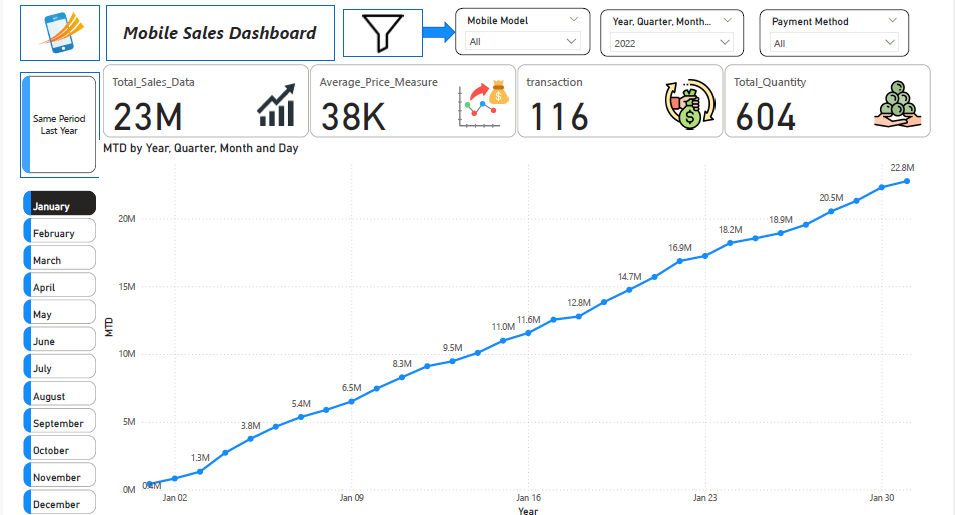

Layout of this report page (visuals, bound fields, positions):
{"tool":"powerbi","page":{"name":"MTD report ","canvas":[1280,720],"ordinal":1},"visuals":[{"type":"shape","box":[0,0,111.2,77.6],"z":0},{"type":"image","box":[0,0,111.2,77.6],"z":1000},{"type":"shape","box":[0,93.7,111.2,147.8],"z":2000},{"type":"cardVisual","fields":{"Data":["Mobiles_Sales_Data.Total_Sales_Data","Mobiles_Sales_Data.Average_Price_Measure","Mobiles_Sales_Data.Total_Transactions_Measure","Mobiles_Sales_Data.Total_Quantity"]},"box":[111.2,77.6,1169.3,112.7],"z":3000},{"type":"slicer","fields":{"Values":["Mobiles_Sales_Data.Mobile Model"]},"box":[608.8,4.4,188.8,65.9],"z":4000},{"type":"slicer","fields":{"Values":["Custom_Calender.Date.Variation.Date Hierarchy.Year","Custom_Calender.Date.Variation.Date Hierarchy.Quarter","Custom_Calender.Date.Variation.Date Hierarchy.Month","Custom_Calender.Date.Variation.Date Hierarchy.Day"]},"box":[812.2,5.9,200.5,65.9],"z":5000},{"type":"slicer","fields":{"Values":["Mobiles_Sales_Data.Payment Method"]},"box":[1034.6,5.9,209.3,65.9],"z":6000},{"type":"shape","box":[452.2,5.9,111.2,65.9],"z":7000},{"type":"image","box":[474.1,4.4,67.3,70.2],"z":8000},{"type":"shape","box":[563.4,23.4,45.4,29.3],"z":9000},{"type":"shape","box":[121.5,0,319,77.6],"z":10000},{"type":"textbox","box":[133.2,16.1,295.6,43.9],"z":11000},{"type":"lineChart","fields":{"Y":["Mobiles_Sales_Data.MTD"],"Category":["Custom_Calender.Date.Variation.Date Hierarchy.Year","Custom_Calender.Date.Variation.Date Hierarchy.Quarter","Custom_Calender.Date.Variation.Date Hierarchy.Month","Custom_Calender.Date.Variation.Date Hierarchy.Day"]},"box":[110.9,189.8,1152.3,530.8],"z":12000},{"type":"advancedSlicerVisual","fields":{"Values":["Custom_Calender.Date.Variation.Date Hierarchy.Month"]},"box":[0,254.6,111.2,465.4],"z":13000},{"type":"pageNavigator","box":[3.4,99.1,102.5,136.1],"z":14000}]}

Visuals, with their boxes on the page's 1280x720 design canvas (x1, y1, x2, y2). These are canvas units, not pixel positions in the 955x515 screenshot, which may show the page scaled, cropped or inside an application window:
shape: left=0, top=0, right=111, bottom=78
image: left=0, top=0, right=111, bottom=78
shape: left=0, top=94, right=111, bottom=242
cardVisual - Mobiles_Sales_Data.Total_Sales_Data x Mobiles_Sales_Data.Average_Price_Measure: left=111, top=78, right=1280, bottom=190
slicer - Mobiles_Sales_Data.Mobile Model: left=609, top=4, right=798, bottom=70
slicer - Custom_Calender.Date.Variation.Date Hierarchy.Year x Custom_Calender.Date.Variation.Date Hierarchy.Quarter: left=812, top=6, right=1013, bottom=72
slicer - Mobiles_Sales_Data.Payment Method: left=1035, top=6, right=1244, bottom=72
shape: left=452, top=6, right=563, bottom=72
image: left=474, top=4, right=541, bottom=75
shape: left=563, top=23, right=609, bottom=53
shape: left=122, top=0, right=440, bottom=78
textbox: left=133, top=16, right=429, bottom=60
lineChart - Mobiles_Sales_Data.MTD x Custom_Calender.Date.Variation.Date Hierarchy.Year: left=111, top=190, right=1263, bottom=721
advancedSlicerVisual - Custom_Calender.Date.Variation.Date Hierarchy.Month: left=0, top=255, right=111, bottom=720
pageNavigator: left=3, top=99, right=106, bottom=235
